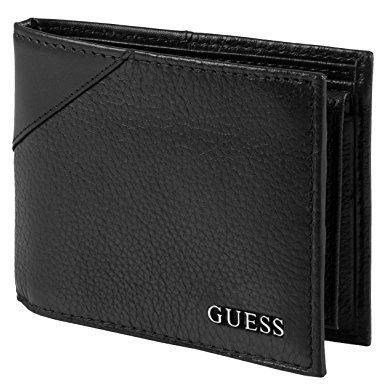monedero: (10, 16, 376, 379)
